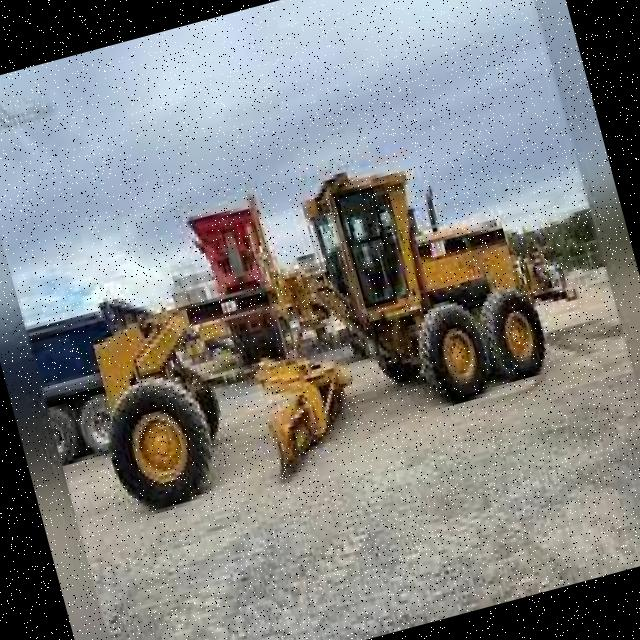Grader: (42, 106, 581, 544)
